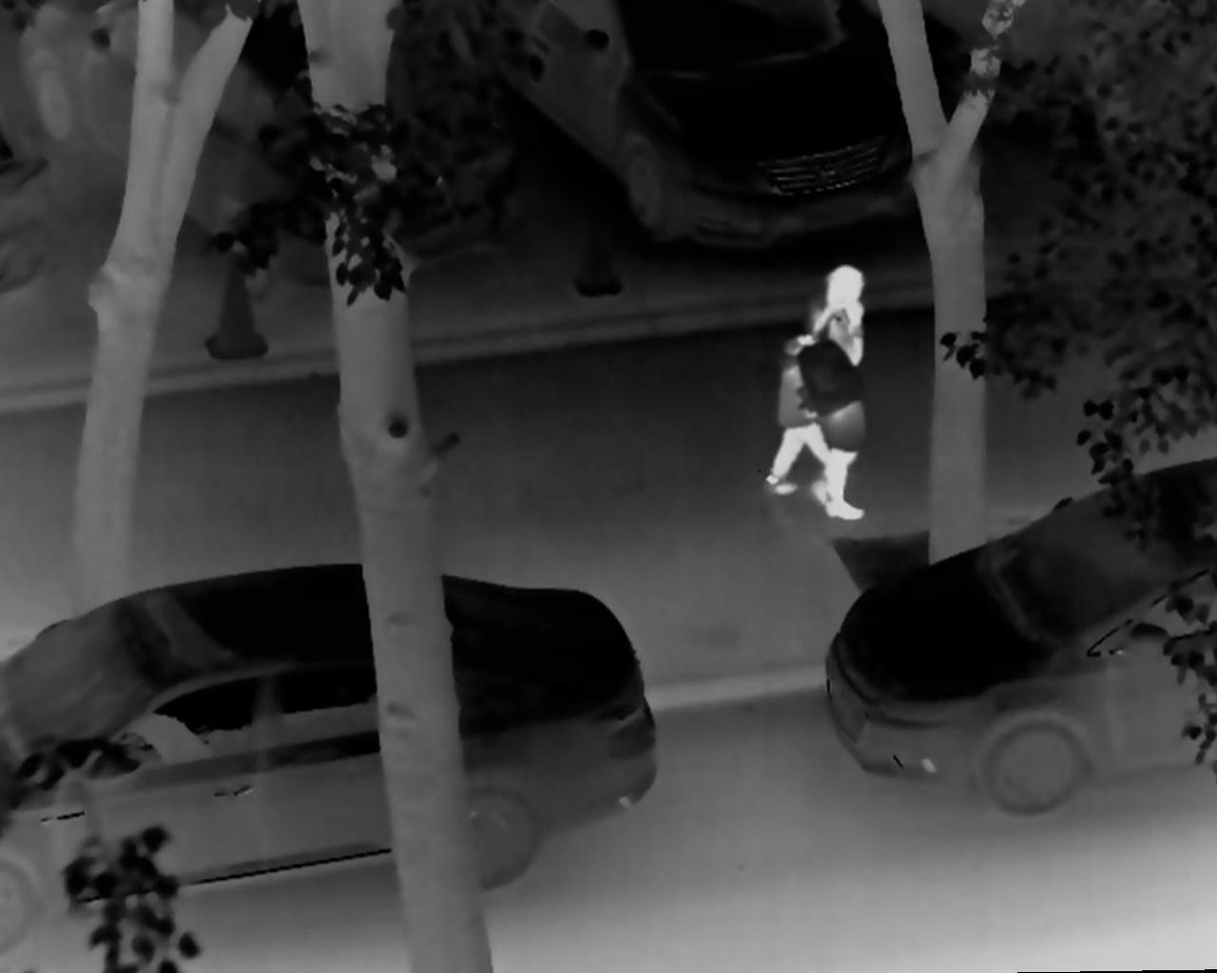person: (812, 261, 873, 524), (762, 306, 843, 500)
